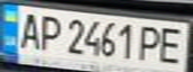1: (115, 20, 139, 61)
2: (63, 16, 87, 56)
4: (81, 17, 103, 57)
6: (100, 19, 121, 60)
A: (15, 9, 45, 50)
E: (154, 25, 190, 65)
P: (136, 23, 166, 62), (36, 12, 63, 52)
